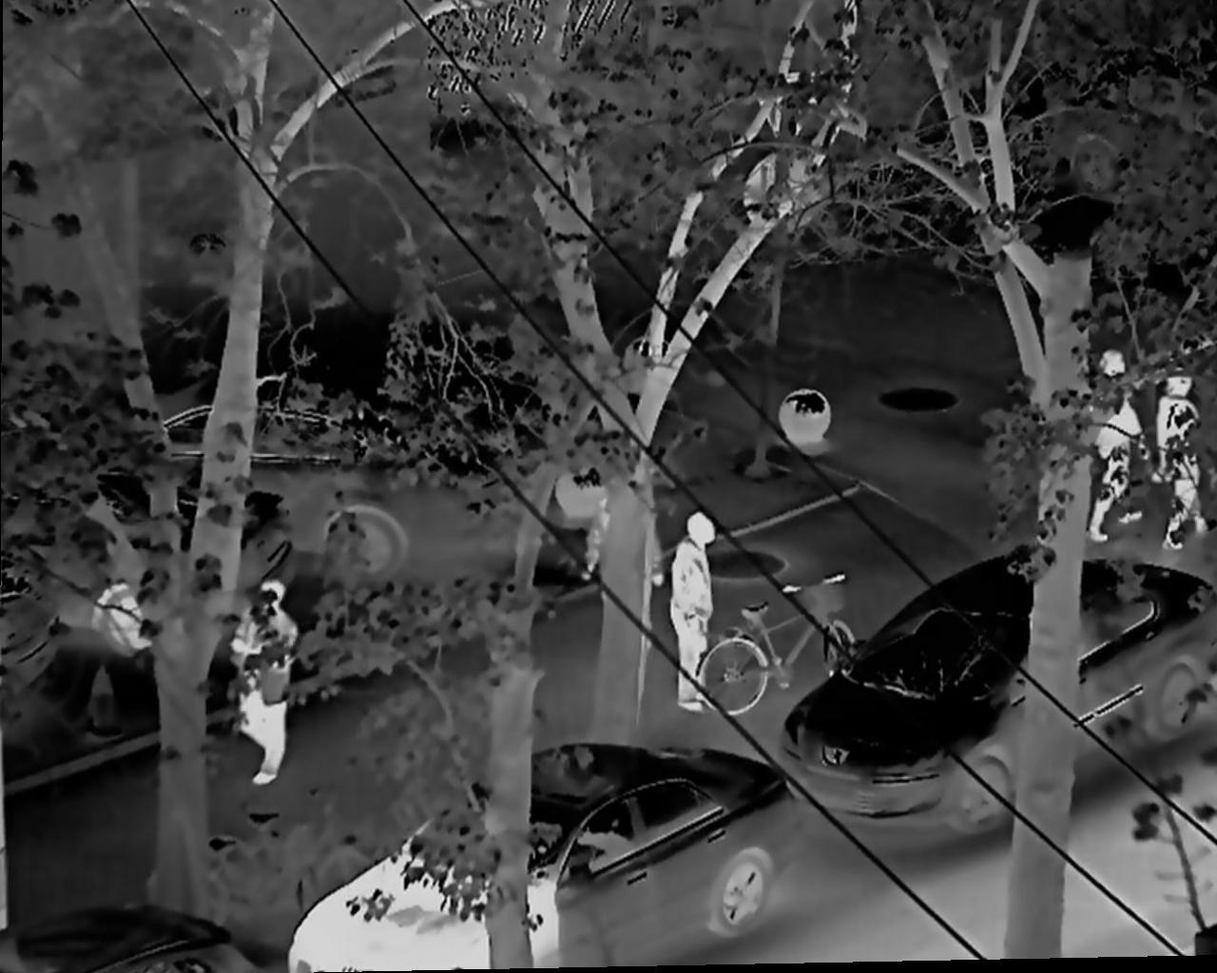person: (228, 579, 299, 787), (667, 509, 715, 714), (1155, 374, 1208, 552), (1091, 396, 1143, 544)
